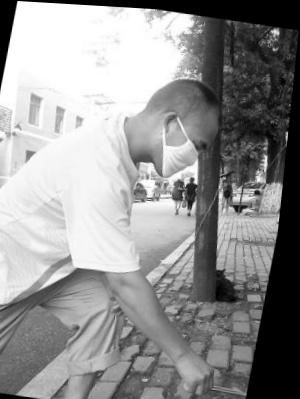WRONG: (151, 110, 216, 181)
